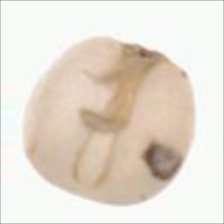L5: (66, 93, 133, 198), (108, 35, 178, 83)
L6: (17, 33, 200, 208)
